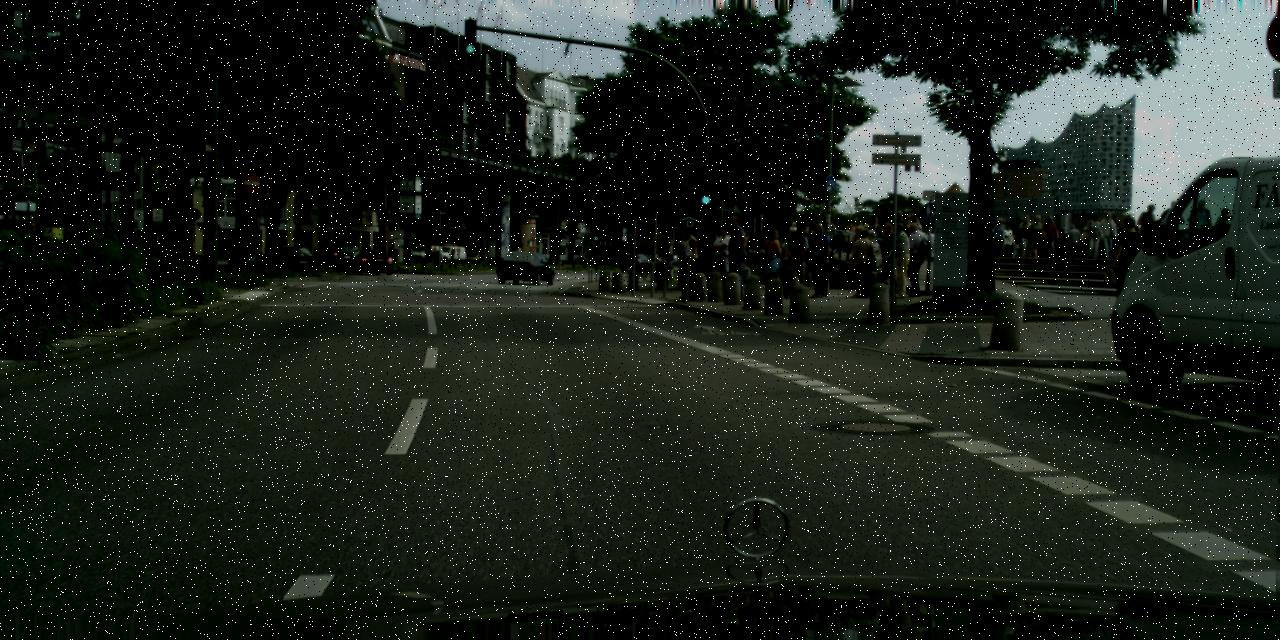ped: (1111, 218, 1146, 304), (718, 215, 752, 299), (802, 222, 832, 297), (899, 222, 929, 296), (886, 222, 916, 296), (844, 225, 874, 297), (674, 225, 703, 298), (708, 224, 736, 294), (786, 223, 814, 293), (851, 228, 879, 296), (874, 222, 902, 290), (758, 228, 785, 296), (777, 232, 802, 294), (861, 228, 884, 284), (1161, 200, 1182, 252), (1137, 203, 1157, 254), (1098, 212, 1117, 258), (1084, 213, 1102, 258), (1017, 214, 1035, 258), (1028, 214, 1046, 257), (1040, 215, 1057, 257), (778, 256, 794, 298), (1106, 216, 1122, 256), (991, 218, 1007, 258), (1016, 218, 1032, 258), (866, 215, 882, 254), (1040, 220, 1055, 258), (901, 214, 915, 250), (1065, 223, 1079, 258), (999, 223, 1013, 258), (893, 210, 906, 243), (1078, 226, 1091, 258), (1054, 228, 1066, 258), (924, 228, 936, 257), (886, 213, 898, 242), (910, 216, 921, 244), (1010, 230, 1020, 258), (860, 223, 870, 248), (845, 223, 854, 247), (788, 221, 797, 244), (362, 240, 371, 261), (828, 219, 834, 234), (833, 224, 839, 238), (603, 249, 609, 263), (804, 218, 809, 233), (839, 224, 844, 238), (857, 221, 862, 233)
